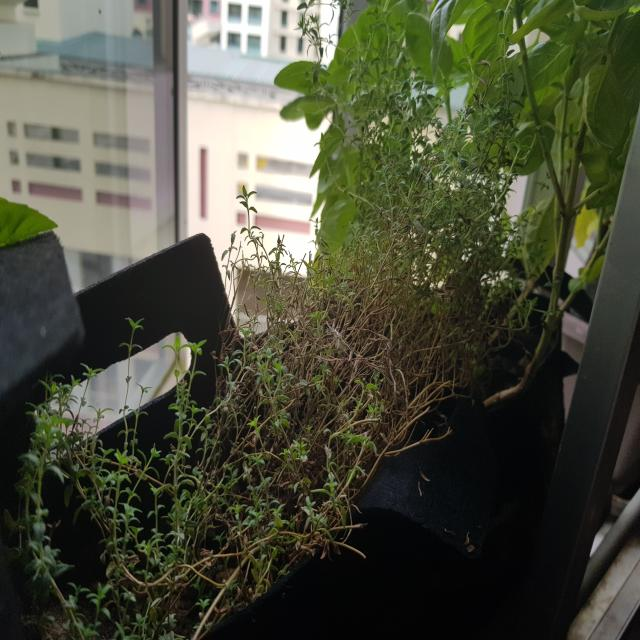Sweet Basil: (532, 8, 639, 250)
Thyme: (21, 382, 313, 631), (314, 7, 527, 323), (223, 199, 469, 459)
